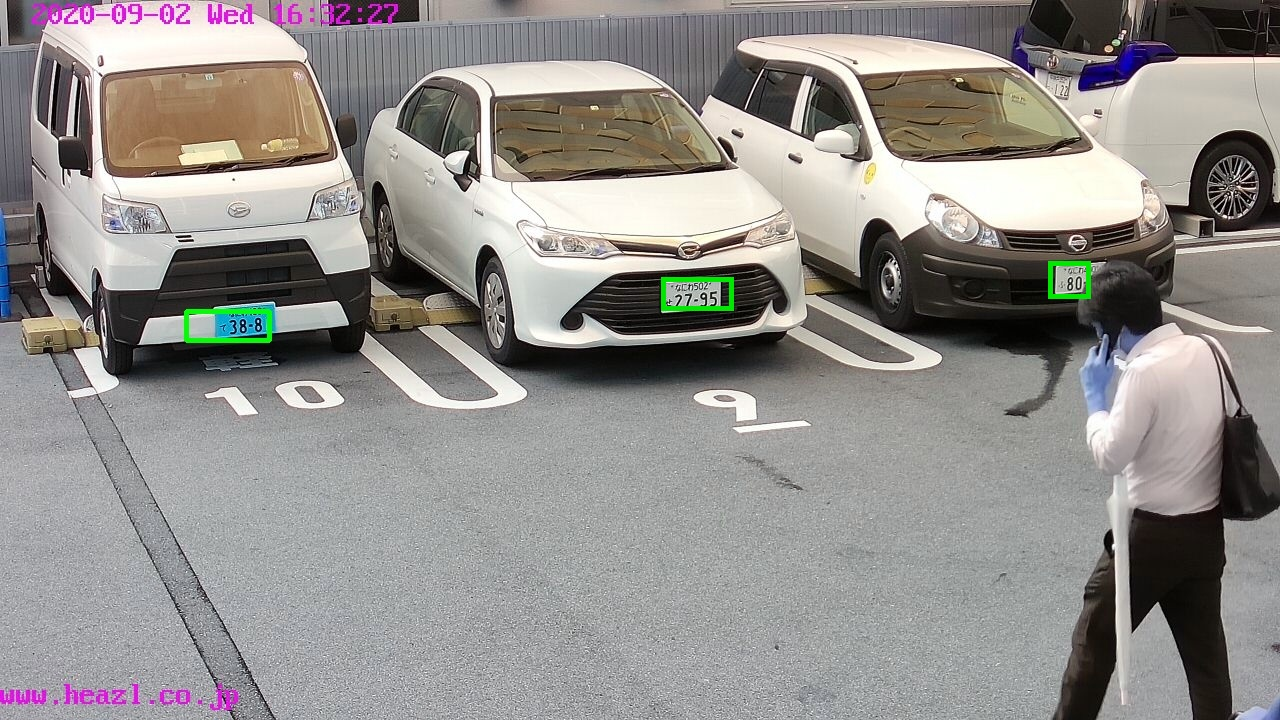number_plate: (662, 282, 723, 311), (216, 307, 277, 335), (1057, 265, 1099, 292)
